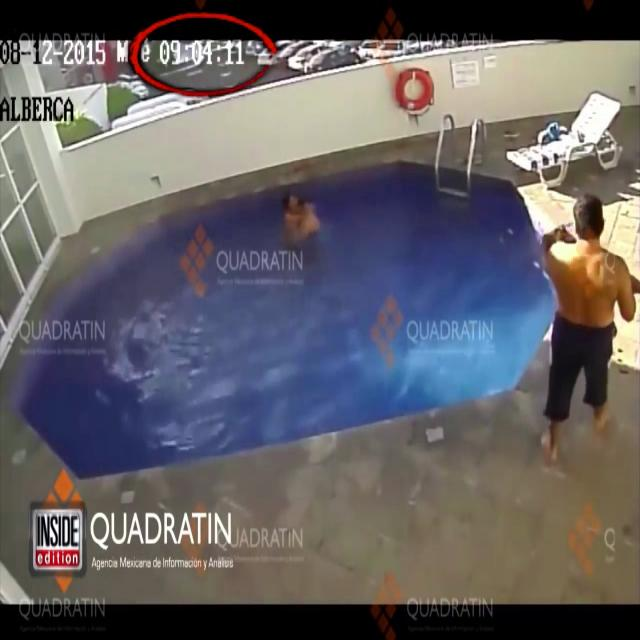adult: (537, 192, 639, 462), (277, 187, 320, 245)
child: (280, 190, 314, 232)
